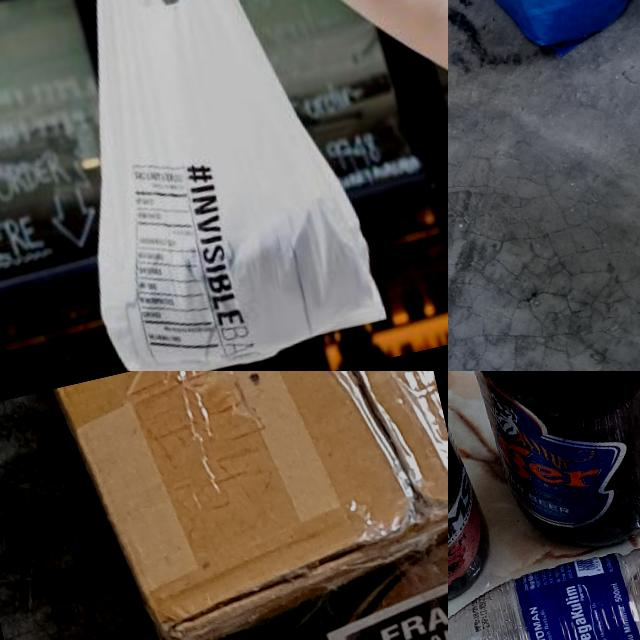garrafa de vidro: (448, 371, 640, 570), (448, 371, 504, 634)
garrafa plástica: (448, 519, 640, 640)
papelão: (45, 371, 448, 640)
sacola plástica: (0, 0, 402, 371), (448, 0, 640, 74)
